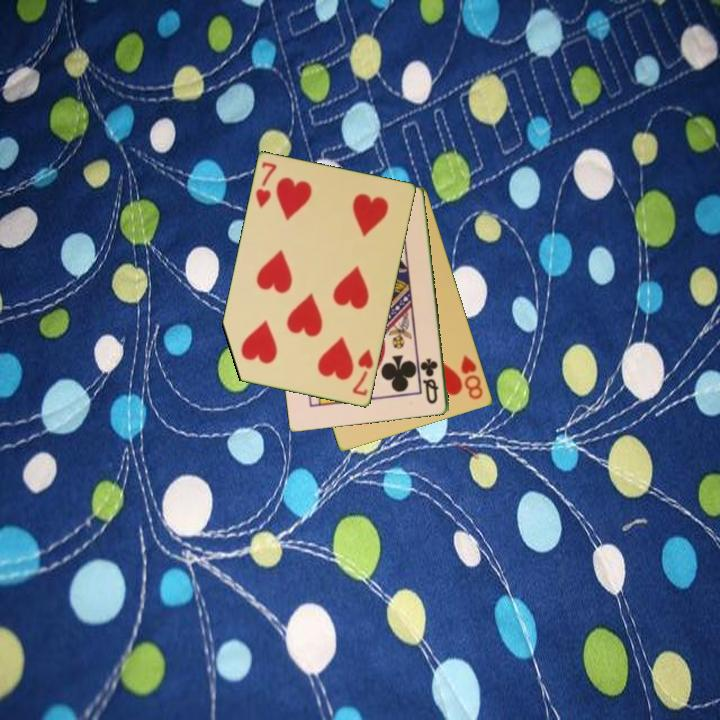7h: (252, 159, 280, 211), (349, 346, 376, 399)
8h: (457, 352, 486, 403)
Qc: (418, 355, 442, 407)
